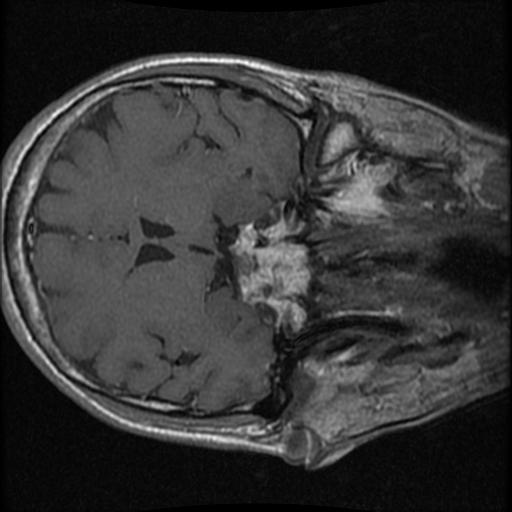pituitary tumour: (229, 225, 309, 329)
